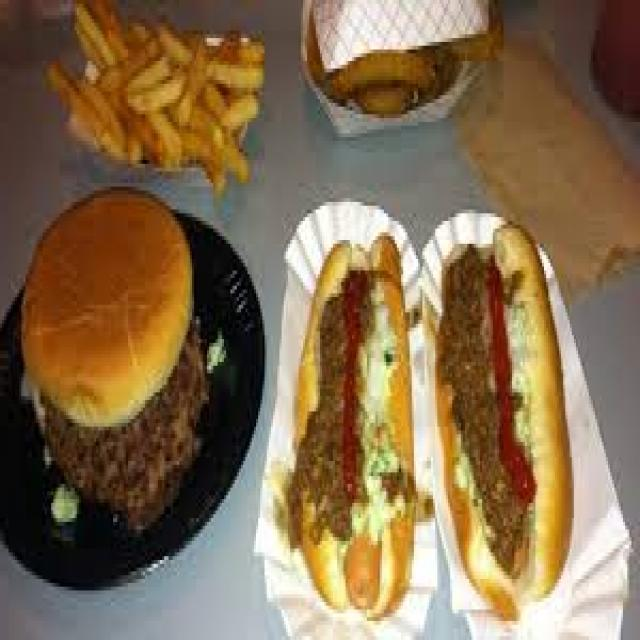Burger: (2, 183, 207, 545)
French Fries: (52, 0, 268, 174)
